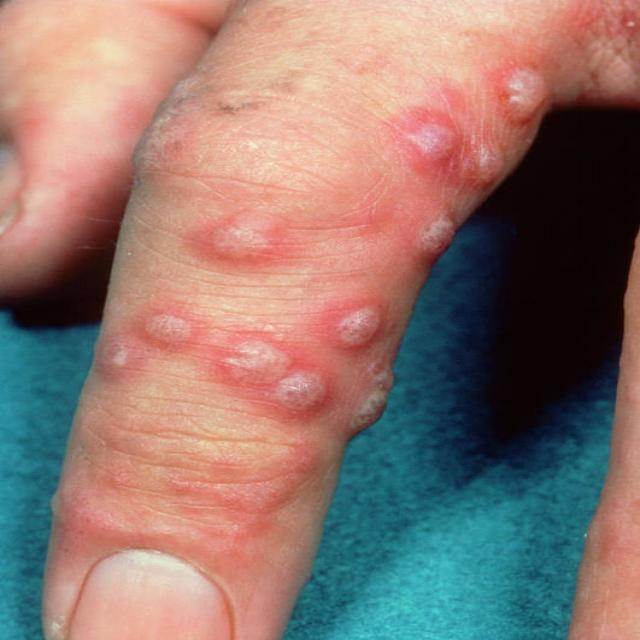herpes zoster: (372, 36, 572, 274), (86, 310, 386, 430), (176, 197, 284, 272)
